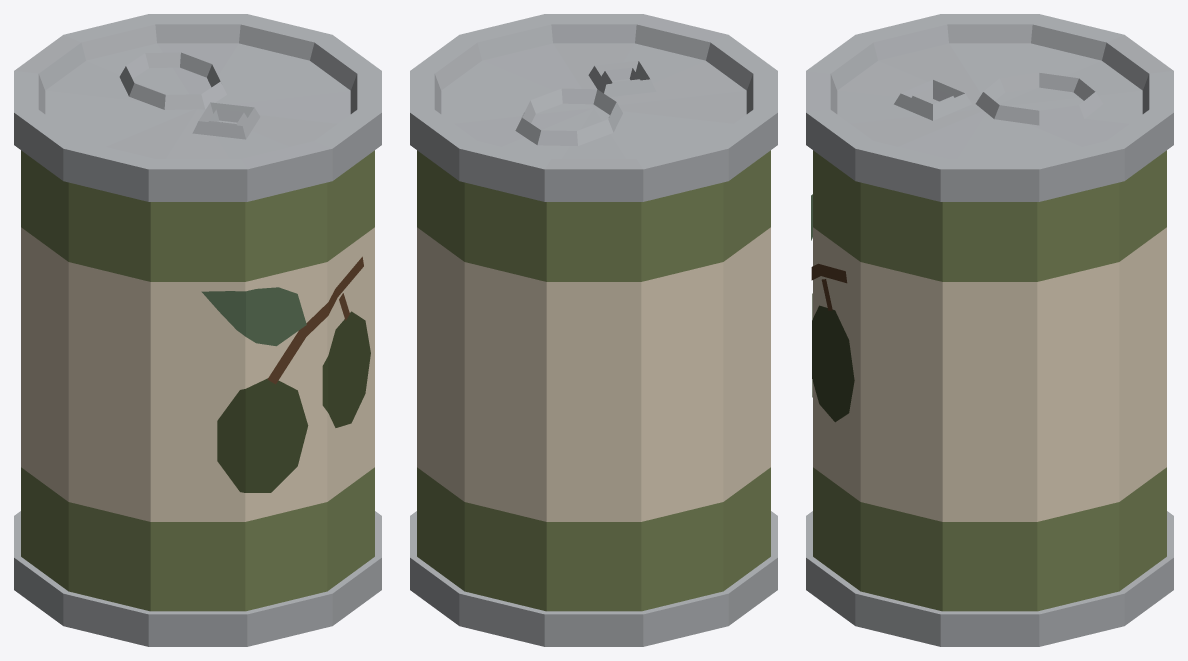
Rendered from lata.glb.
The picture shows the model from 3 angles, left to right: view 1: azimuth 30°, elevation 25°; view 2: azimuth 150°, elevation 25°; view 3: azimuth 270°, elevation 25°; orthographic projection.
Visible parts, largest first — view 1: Lata_cuerpo, Lata_aceituna_A, Lata_aceituna_B, Lata_hoja, Lata_lengueta, Lata_rama, Lata_lengueta_b; view 2: Lata_cuerpo, Lata_lengueta, Lata_lengueta_b; view 3: Lata_cuerpo, Lata_aceituna_B, Lata_lengueta, Lata_lengueta_b.
Boxes of the visible parts, x1,y1,x2,y2 form: Lata_cuerpo: [14, 14, 381, 646]; Lata_aceituna_A: [217, 378, 308, 492]; Lata_aceituna_B: [322, 311, 370, 427]; Lata_hoja: [201, 287, 306, 346]; Lata_lengueta: [119, 52, 226, 109]; Lata_rama: [267, 256, 363, 384]; Lata_lengueta_b: [192, 102, 260, 139]; Lata_cuerpo: [410, 14, 777, 646]; Lata_lengueta: [515, 88, 622, 145]; Lata_lengueta_b: [588, 60, 656, 96]; Lata_cuerpo: [806, 14, 1173, 646]; Lata_aceituna_B: [812, 305, 854, 422]; Lata_lengueta: [975, 72, 1102, 125]; Lata_lengueta_b: [894, 80, 971, 120].
Size of the model in its own units: 0.078 by 0.1116 by 0.078.
